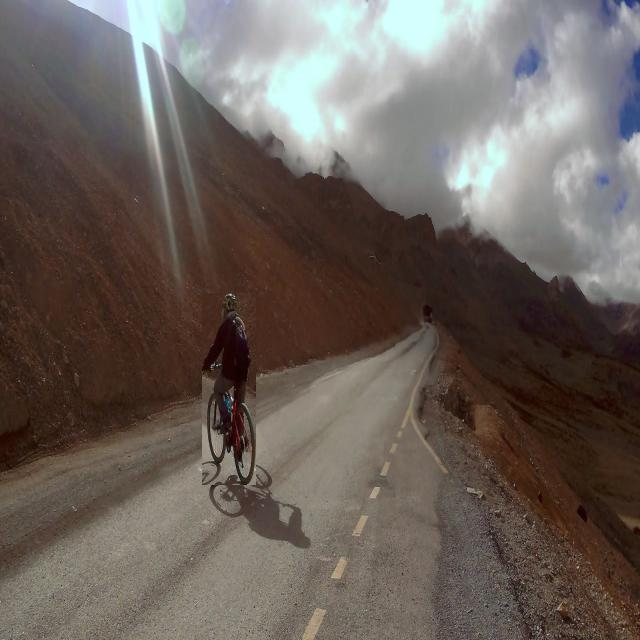bicycle: (202, 294, 256, 485)
